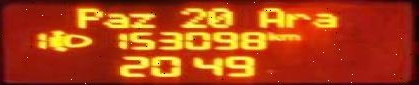0: (148, 54, 179, 78), (205, 6, 231, 27), (184, 29, 208, 51)
1: (115, 30, 127, 52), (35, 30, 47, 51)
2: (177, 5, 206, 28), (118, 54, 146, 77)
3: (158, 30, 182, 50)
4: (191, 55, 222, 76)
5: (128, 30, 154, 51)
8: (238, 31, 266, 51)
9: (224, 55, 257, 77), (210, 31, 238, 51)
X: (73, 6, 102, 28), (257, 5, 283, 28), (128, 12, 158, 28), (102, 11, 127, 28), (284, 11, 309, 27), (312, 12, 336, 27), (281, 32, 302, 41), (265, 30, 281, 40)
